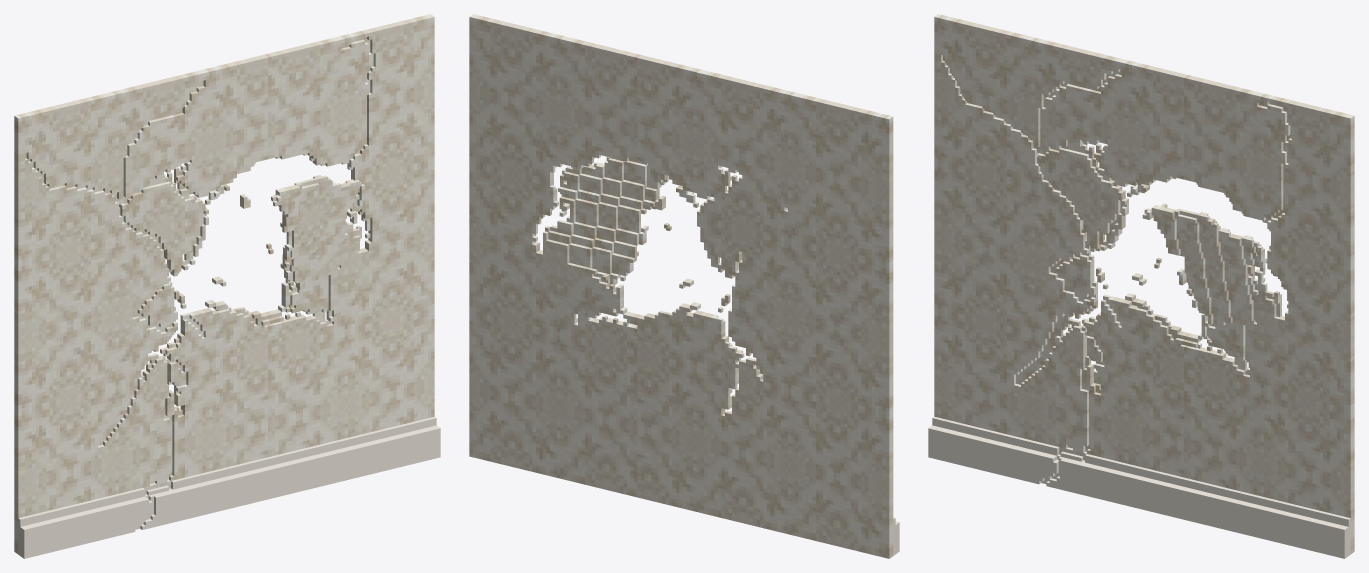
File: w3.vox.obj
3 views of the same model, side by side, from view 1: azimuth 30°, elevation 25°; view 2: azimuth 150°, elevation 25°; view 3: azimuth 330°, elevation 25° (orthographic).
Visible parts, largest first — view 1: wall paper; view 2: wall paper; view 3: wall paper.
Boxes of the visible parts, <box> form: wall paper: <box>14,14,440,558</box>; wall paper: <box>469,14,899,558</box>; wall paper: <box>928,14,1354,558</box>.
Bounding box in the file's own units: 12 × 12 × 1.4.
Materials: 1 (1 with a texture image).
